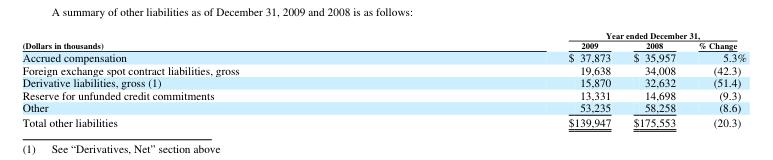table: (21, 29, 745, 128)
table column: (21, 29, 403, 128), (403, 29, 621, 128), (621, 29, 686, 128), (686, 29, 745, 128)
table column header: (21, 29, 745, 50)
table row: (21, 100, 745, 114), (21, 114, 745, 128), (21, 62, 745, 75), (21, 75, 745, 88), (21, 50, 745, 62), (21, 88, 745, 100), (21, 29, 745, 40), (21, 40, 745, 50)
table spanning cell: (21, 29, 403, 50), (403, 29, 745, 40)
